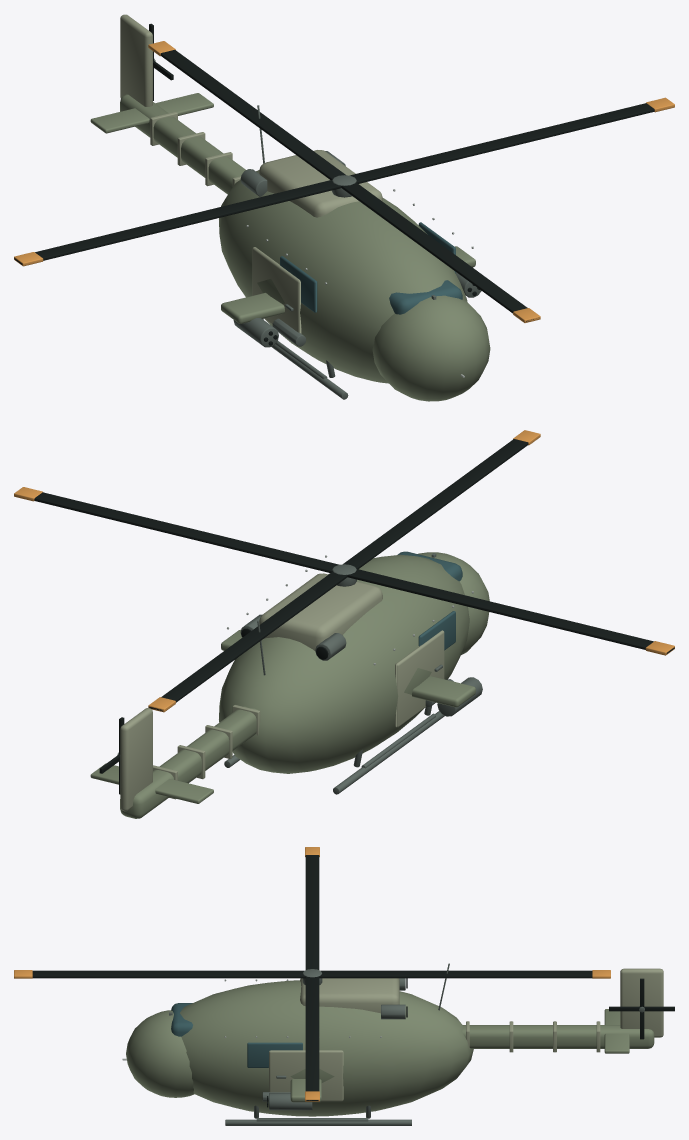
The model's file is helicopter.glb.
The picture shows the model from 3 angles, top to bottom: view 1: azimuth 30°, elevation 25°; view 2: azimuth 150°, elevation 25°; view 3: azimuth 270°, elevation 25°; orthographic projection. The views are drawn at different scales.
Parts seen in each view (by area): view 1: Helicopter_Field_olive, Rotor_Black_bore, Helicopter_Armor_edge, Helicopter_Gun_steel, Helicopter_Glass, Rotor_Warning; view 2: Helicopter_Field_olive, Rotor_Black_bore, Helicopter_Armor_edge, Helicopter_Gun_steel, Helicopter_Glass, Rotor_Warning; view 3: Helicopter_Field_olive, Rotor_Black_bore, Helicopter_Armor_edge, Helicopter_Gun_steel, Helicopter_Glass, TailRotor_Black_bore, Rotor_Warning.
Boxes of the visible parts, bbox=[...] form: Helicopter_Field_olive: bbox=[90, 93, 490, 401]; Rotor_Black_bore: bbox=[14, 49, 654, 321]; Helicopter_Armor_edge: bbox=[120, 14, 382, 333]; Helicopter_Gun_steel: bbox=[233, 105, 481, 399]; Helicopter_Glass: bbox=[280, 222, 462, 314]; Rotor_Warning: bbox=[14, 41, 674, 322]; Helicopter_Field_olive: bbox=[90, 552, 489, 818]; Rotor_Black_bore: bbox=[34, 439, 674, 711]; Helicopter_Armor_edge: bbox=[120, 573, 444, 811]; Helicopter_Gun_steel: bbox=[224, 553, 482, 794]; Helicopter_Glass: bbox=[397, 551, 462, 650]; Rotor_Warning: bbox=[14, 430, 674, 712]; Helicopter_Field_olive: bbox=[126, 980, 654, 1116]; Rotor_Black_bore: bbox=[32, 855, 592, 1100]; Helicopter_Armor_edge: bbox=[269, 968, 663, 1101]; Helicopter_Gun_steel: bbox=[169, 963, 449, 1125]; Helicopter_Glass: bbox=[171, 1003, 302, 1067]; TailRotor_Black_bore: bbox=[609, 978, 674, 1039]; Rotor_Warning: bbox=[14, 847, 610, 1101].
Size of the model in its own units: 9.6 by 2.6 by 10.63.
